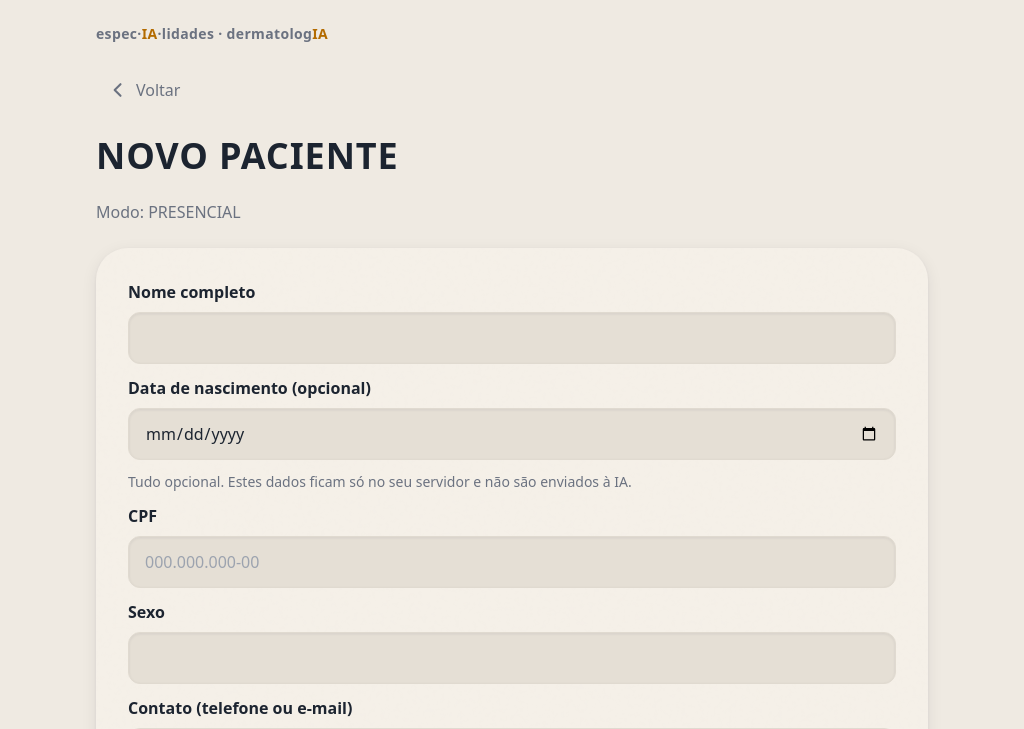
Scenario: novo paciente › CPF repetido avisa e não começa a consulta
This screenshot has width=1024, height=729.
Type "Carla Dias" into the field labelled "Nome completo" at point(512, 338), box [128, 312, 896, 364]
(page scrolled)
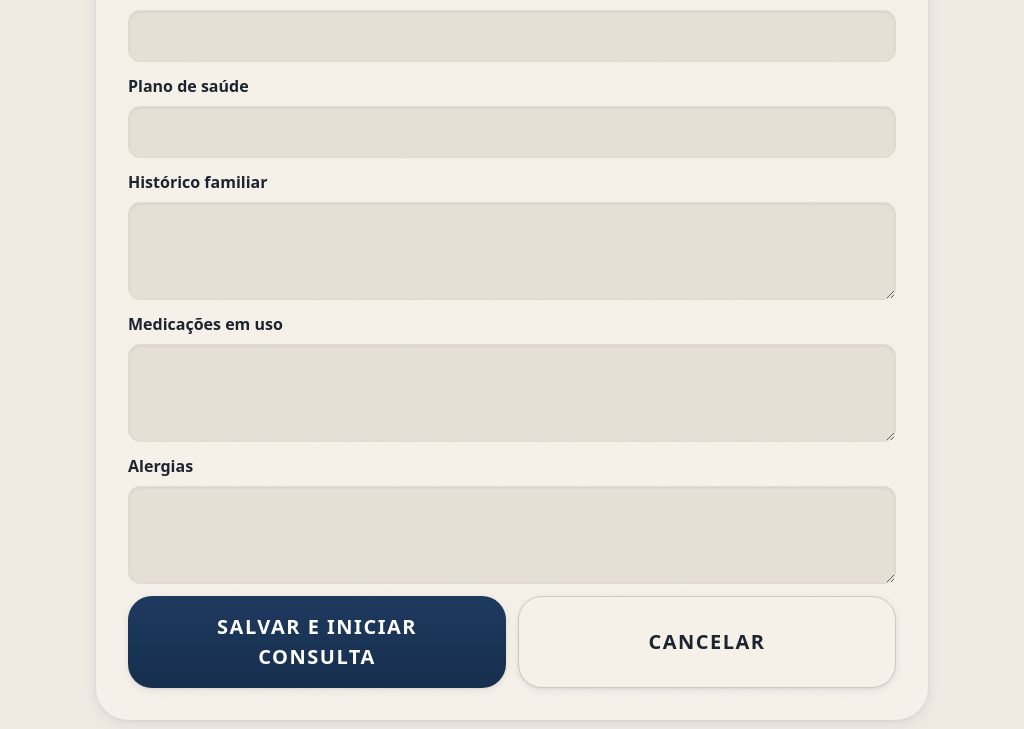
Click the button "SALVAR E INICIAR CONSULTA" at point(317, 642), box [128, 596, 506, 688]
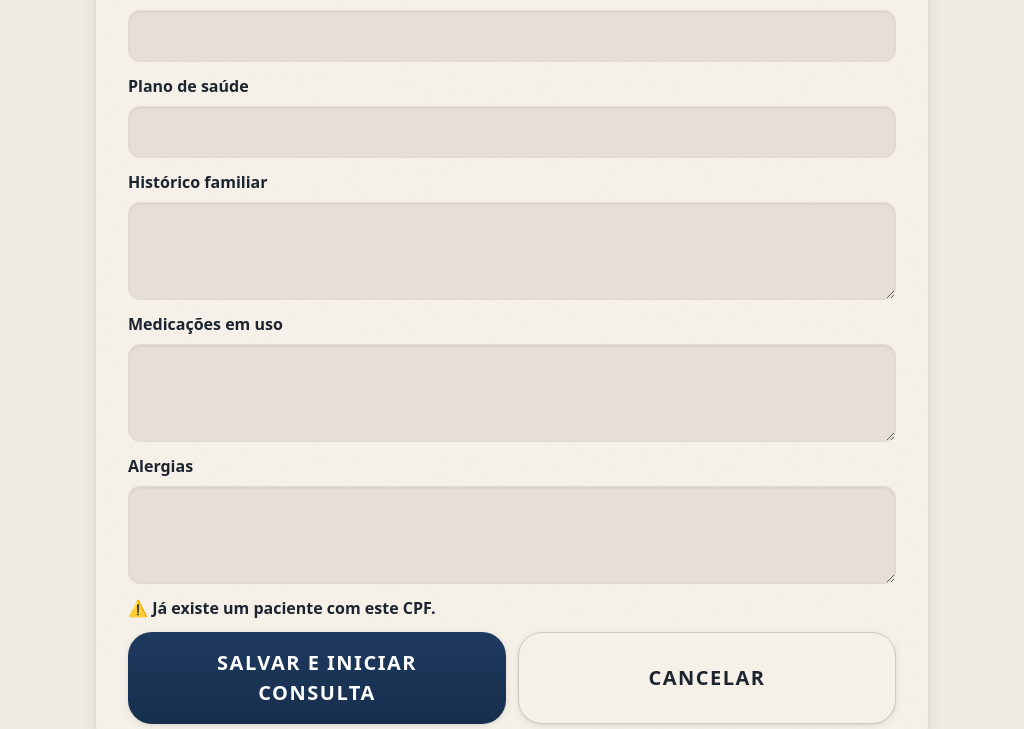
Expected: the text "⚠️ Já existe um paciente com este CPF." is shown, [128, 597, 435, 619]
